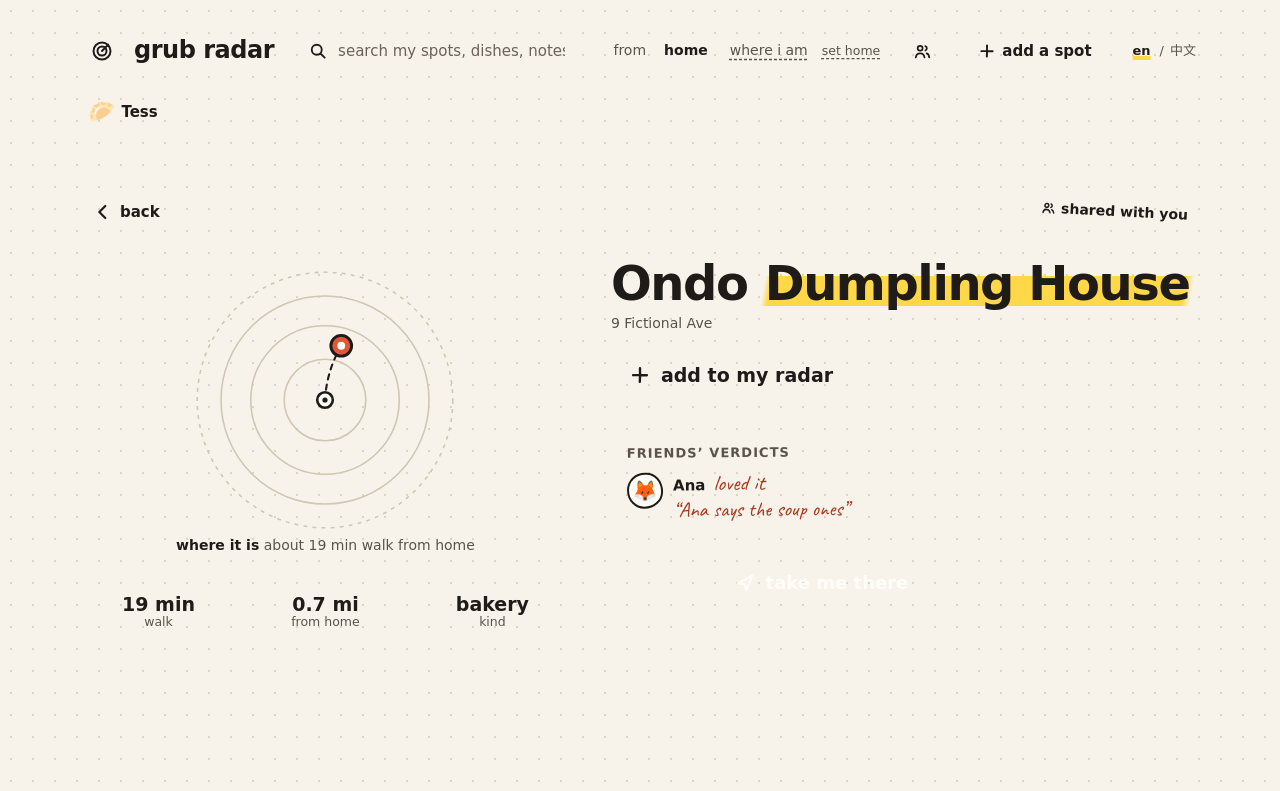
Scenario: a shared place (not on your list) › add to my radar: on your list as want, then your own page
This screenshot has width=1280, height=791.
Click the button named "Add Ondo Dumpling House to your radar": (734, 375) top-left (611, 347), bottom-right (857, 403)
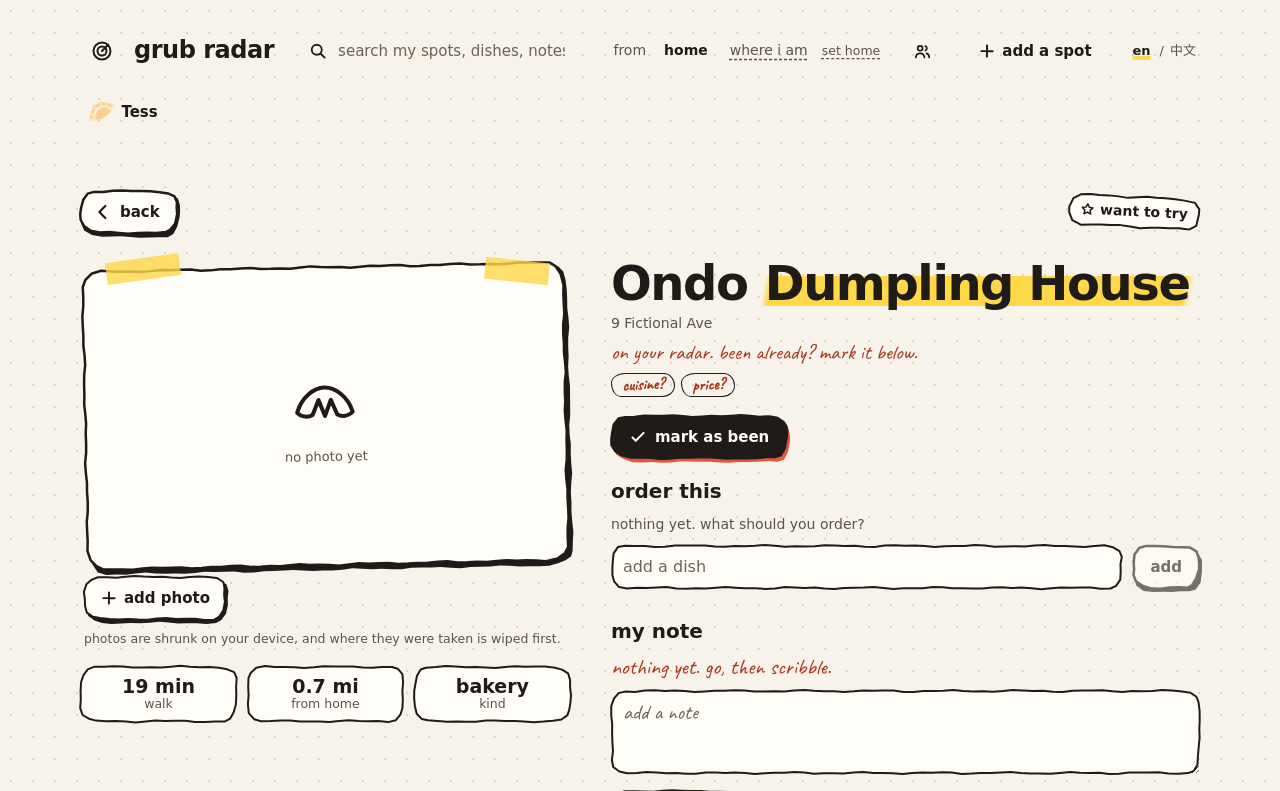
Check: the text "on your radar. been already? mark it below." is shown, box top-left (611, 339), bottom-right (918, 365)
Check: the text "shared with you" is gone
Check: the button "mark as been" is shown, box top-left (611, 415), bottom-right (787, 459)
